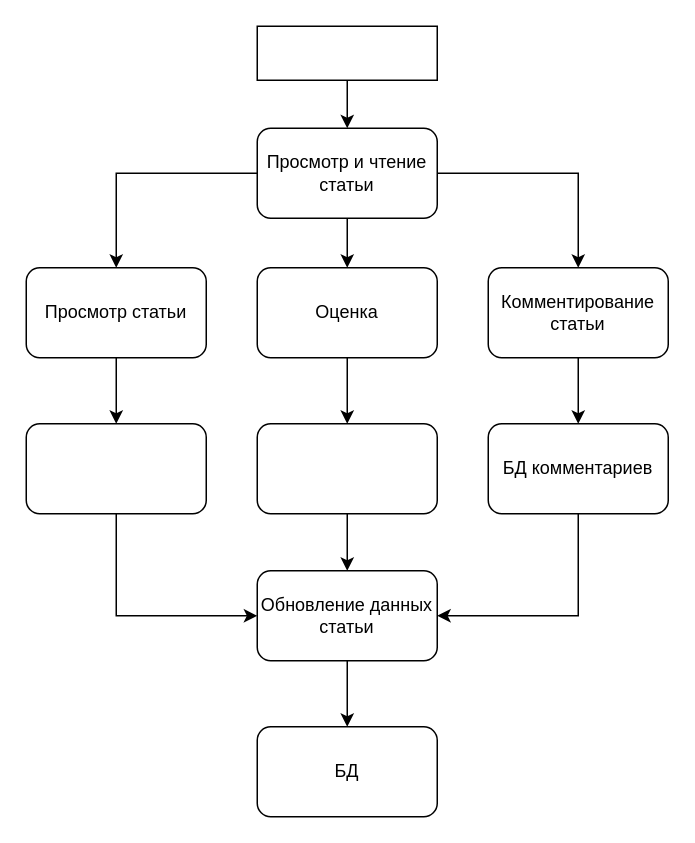
Some shapes in this 695 by 843 pixel diagram are drawn without their labels. Each missing label, with the centre of its shape:
"БД оценок" belongs at (x=346, y=468).
"БД статей" belongs at (x=115, y=468).
"Пользователь" belongs at (x=346, y=52).
